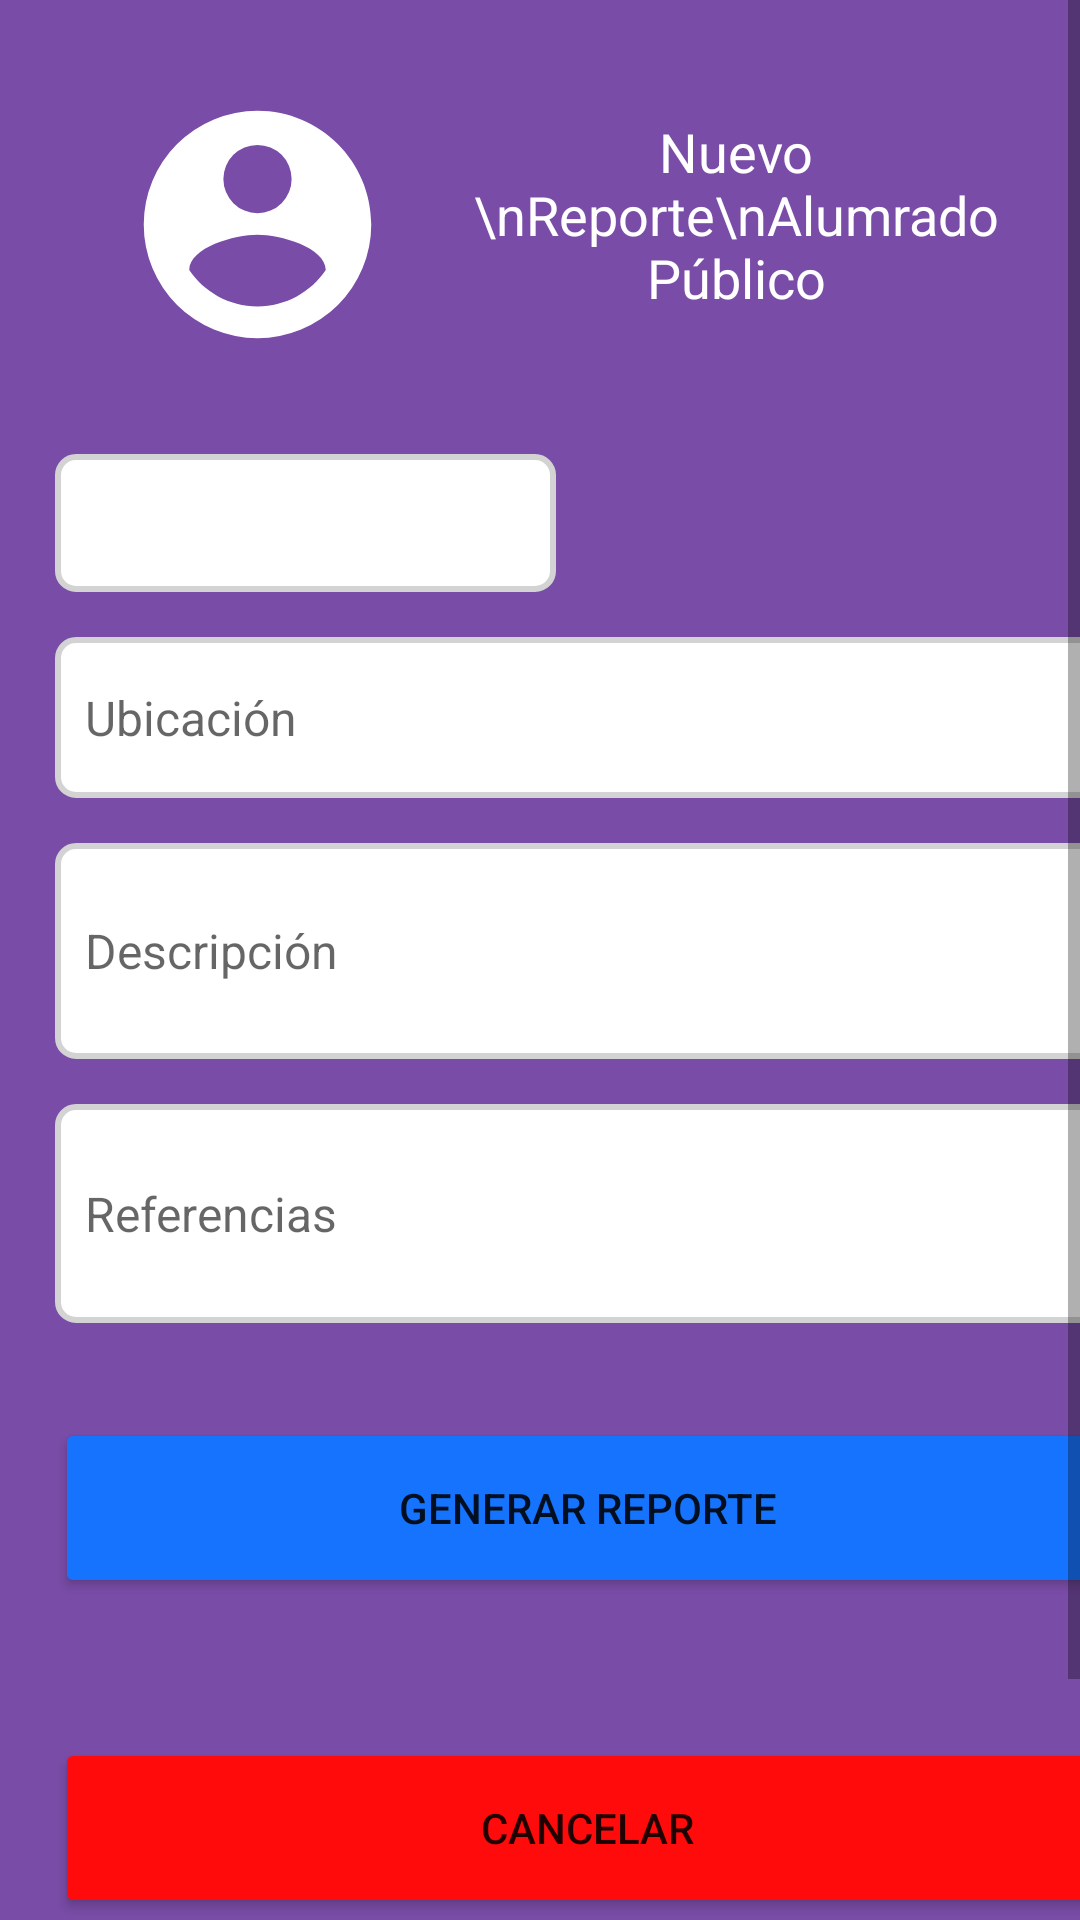

Locate icon controls on the screen. Image size 1080w x 1920h, boxes as (x1, y1, x2, y2).
account circle: (143, 110, 372, 339)
